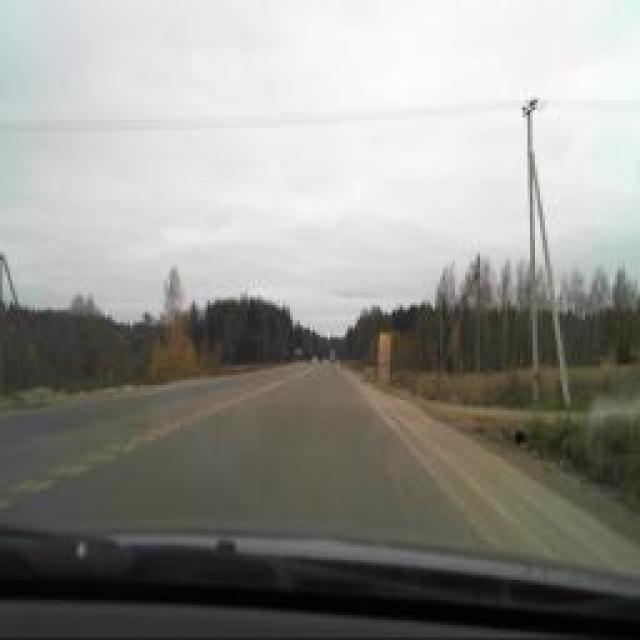sign: (379, 335, 389, 350)
